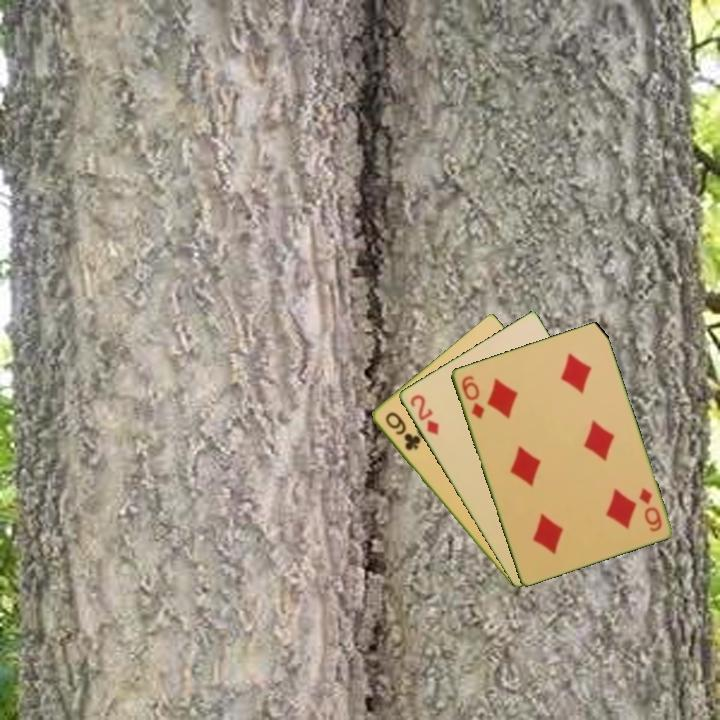2d: (406, 391, 441, 438)
6d: (635, 484, 664, 535), (458, 372, 487, 422)
9c: (381, 408, 422, 453)
